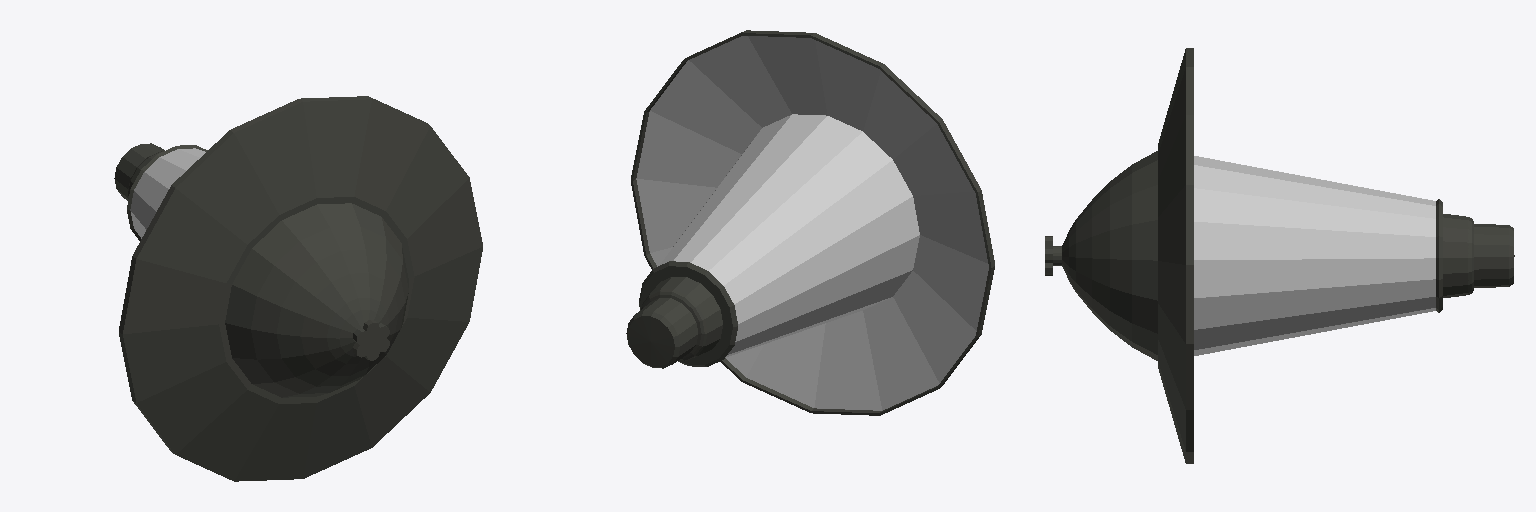
The picture shows the model from 3 angles: view 1: azimuth 30°, elevation 25°; view 2: azimuth 150°, elevation 25°; view 3: azimuth 270°, elevation 25°; orthographic projection.
Visible parts, largest first — view 1: BezierCurve.001, Glas, Cylinder; view 2: BezierCurve.001, Glas; view 3: Glas, BezierCurve.001.
Part boxes in pixels (left/top/right/bottom): BezierCurve.001: left=114, top=96, right=482, bottom=481; Glas: left=130, top=148, right=205, bottom=238; Cylinder: left=353, top=320, right=389, bottom=360; BezierCurve.001: left=626, top=30, right=994, bottom=415; Glas: left=659, top=114, right=919, bottom=357; Glas: left=1194, top=156, right=1435, bottom=355; BezierCurve.001: left=1053, top=48, right=1514, bottom=463.
Bounding box in the file's own units: 0.5261 × 0.5261 × 0.5918.
Materials: 4 (2 with a texture image).